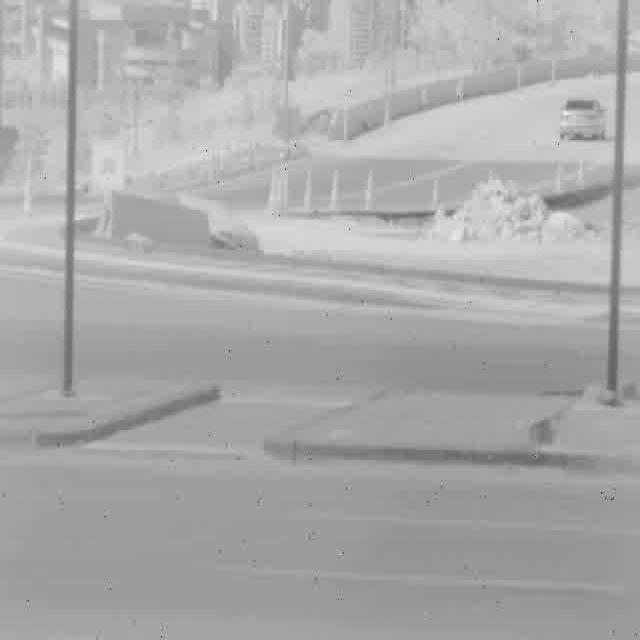Car: (560, 99, 606, 140)
